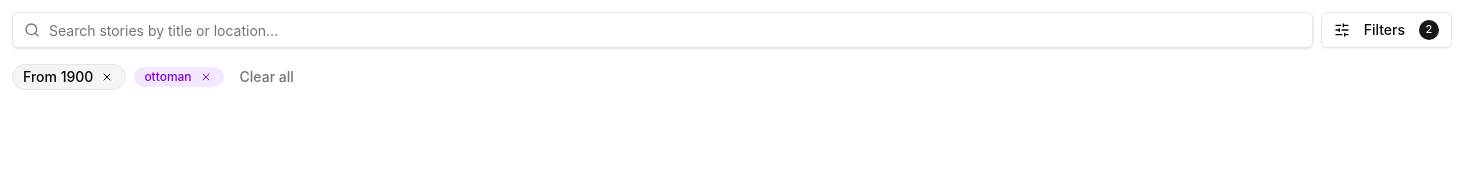
Test: SearchFilter › Clear all also clears tag chips
Expected: the text "ottoman" is shown, [144,69,192,84]
Expected: the text "From 1900" is shown, [23,68,93,85]
What coordinates should you click on to do the following:
click the button named "clear all filters"
I would click on:
 (267, 77)
Its box is [232,65,302,89].
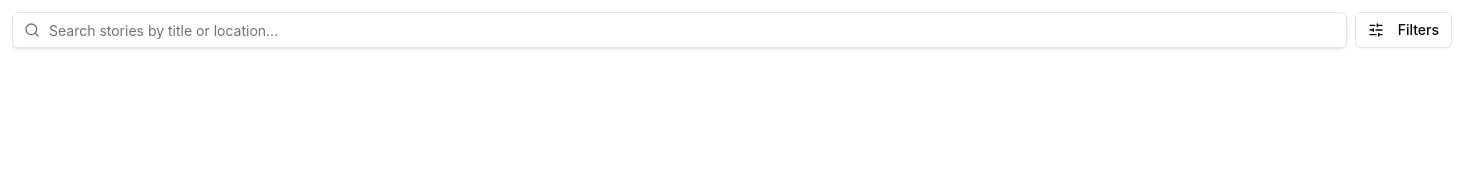
Expected: the text "ottoman" is gone
Expected: the text "From 1900" is gone
